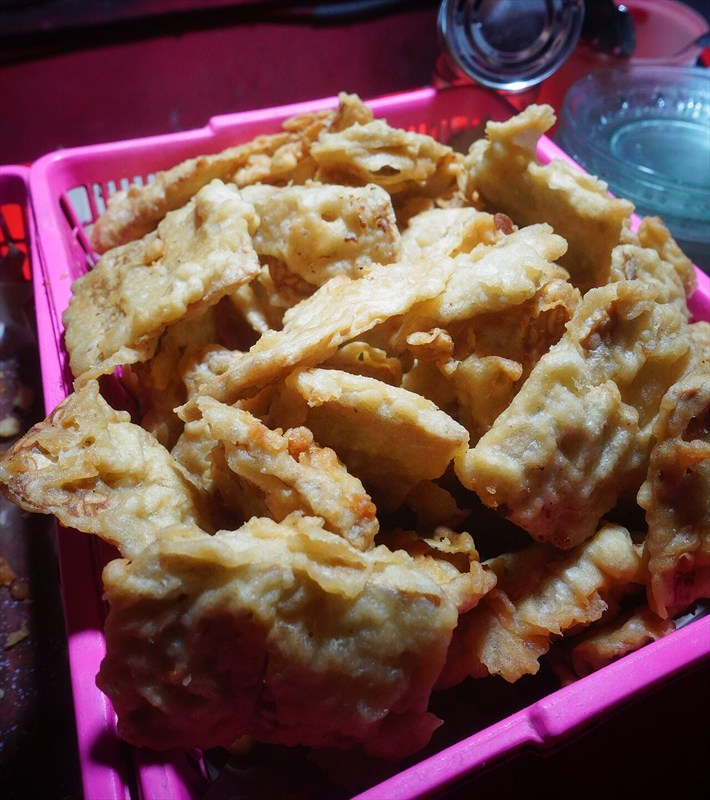Tempe Goreng: (28, 85, 628, 708)
